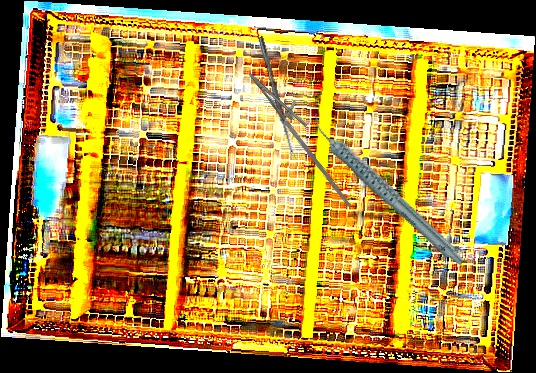Handpiece: (308, 88, 467, 291)
Needle Holder: (234, 64, 375, 208)
Surgical Spoon: (257, 35, 296, 161)
